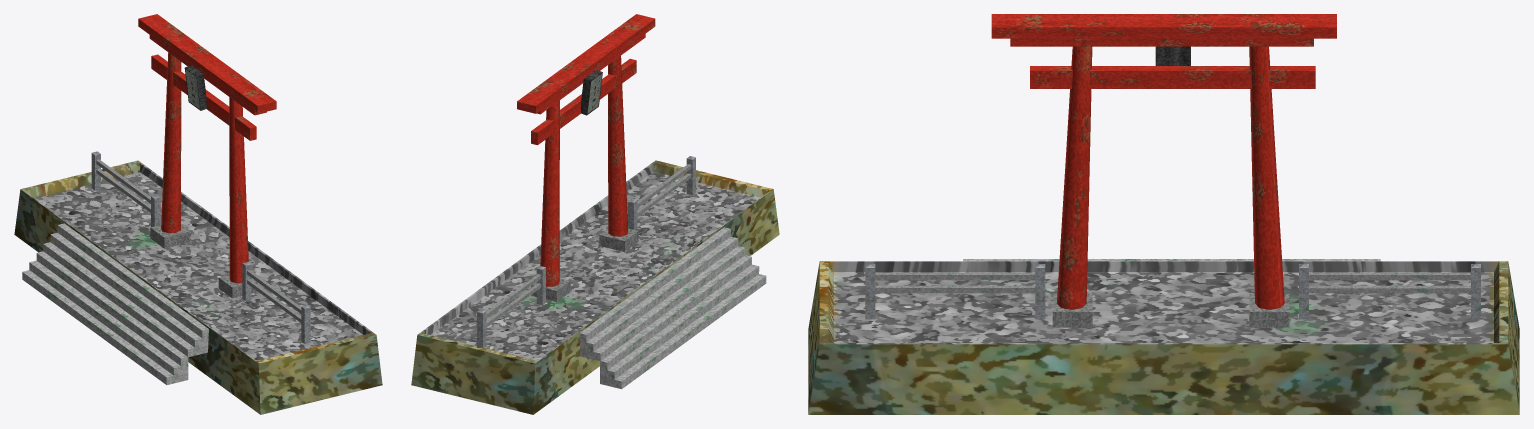
The model's file is torii.fbx.
The picture shows the model from 3 angles, left to right: view 1: azimuth 30°, elevation 25°; view 2: azimuth 150°, elevation 25°; view 3: azimuth 270°, elevation 25°; orthographic projection. The views are drawn at different scales.
Visible parts, largest first — view 1: pCube93, pCube95, pCube94, pCube99, pCylinder3, pCylinder4, pCube96, polySurface18, polySurface16, pCube101, pCube97, pCube100 (+2 smaller); view 2: pCube93, pCube95, pCube94, pCube99, pCylinder4, pCylinder3, pCube96, polySurface16, polySurface18, pCube101, pCube100, pCube97 (+2 smaller); view 3: pCube93, pCube99, pCylinder3, pCylinder4, pCube96, polySurface18, polySurface16, pCube98, pCube94, pCube100, pCube97, pCube101.
Boxes of the visible parts, <box> form: pCube93: <box>14,160,382,414</box>; pCube95: <box>22,251,188,384</box>; pCube94: <box>43,223,208,357</box>; pCube99: <box>138,14,276,113</box>; pCylinder3: <box>161,52,181,233</box>; pCylinder4: <box>229,97,248,283</box>; pCube96: <box>151,54,256,140</box>; polySurface18: <box>242,262,301,322</box>; polySurface16: <box>96,159,160,227</box>; pCube101: <box>184,65,206,110</box>; pCube97: <box>150,225,189,248</box>; pCube100: <box>218,274,257,298</box>; pCube93: <box>411,160,779,414</box>; pCube95: <box>600,255,766,389</box>; pCube94: <box>579,227,745,361</box>; pCube99: <box>517,14,655,113</box>; pCylinder4: <box>608,56,627,236</box>; pCylinder3: <box>540,100,559,286</box>; pCube96: <box>531,58,636,145</box>; polySurface16: <box>486,266,545,327</box>; polySurface18: <box>627,164,691,230</box>; pCube101: <box>581,70,602,115</box>; pCube100: <box>599,228,638,251</box>; pCube97: <box>531,278,570,301</box>; pCube93: <box>808,261,1519,414</box>; pCube99: <box>991,14,1336,38</box>; pCylinder3: <box>1249,46,1284,309</box>; pCylinder4: <box>1057,46,1092,309</box>; pCube96: <box>1030,66,1315,88</box>; polySurface18: <box>875,264,1045,319</box>; polySurface16: <box>1299,264,1470,319</box>; pCube98: <box>1010,38,1313,46</box>; pCube94: <box>963,259,1380,261</box>; pCube100: <box>1052,293,1092,327</box>; pCube97: <box>1249,293,1289,327</box>; pCube101: <box>1155,46,1190,65</box>.
Bounding box in the file's own units: 50.19 × 73.19 × 132.
